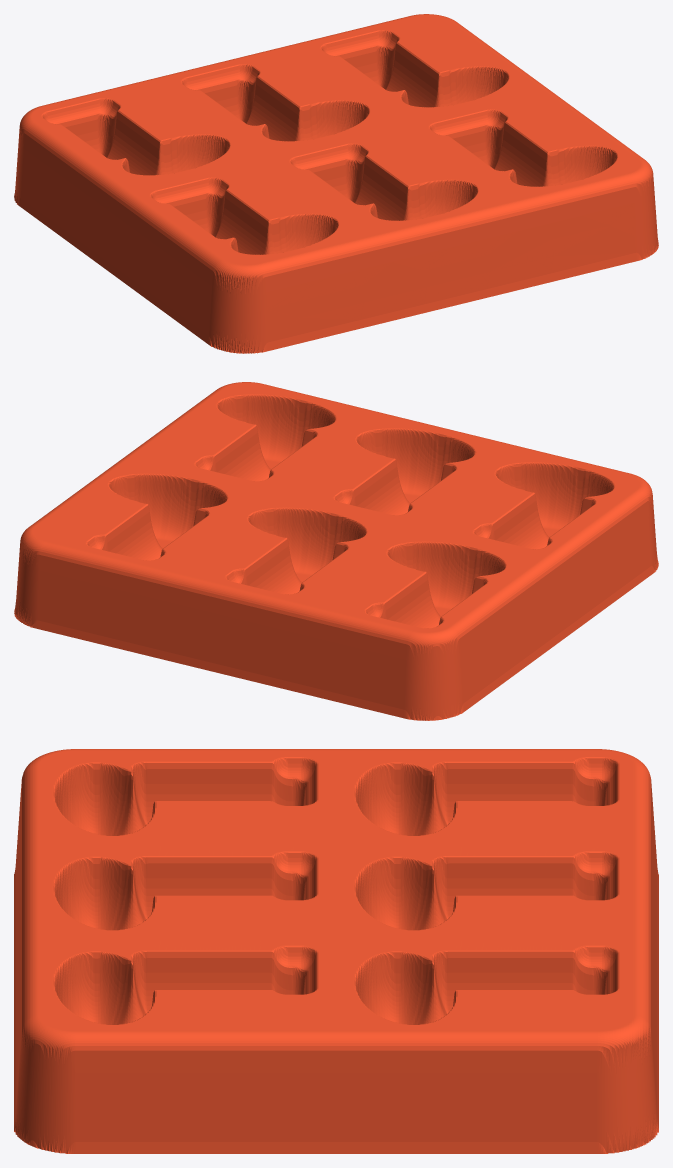
The model's file is mold.glb.
3 views of the same model, one above another, from view 1: azimuth 30°, elevation 25°; view 2: azimuth 150°, elevation 25°; view 3: azimuth 270°, elevation 25° (orthographic). The views are drawn at different scales.
Parts seen in each view (by area): view 1: geometry_0; view 2: geometry_0; view 3: geometry_0.
Part boxes in pixels (bbox=[...]): geometry_0: bbox=[14, 14, 658, 353]; geometry_0: bbox=[14, 382, 658, 720]; geometry_0: bbox=[14, 749, 658, 1153].
Size of the model in its own units: 0.1047 by 0.0182 by 0.0947.
